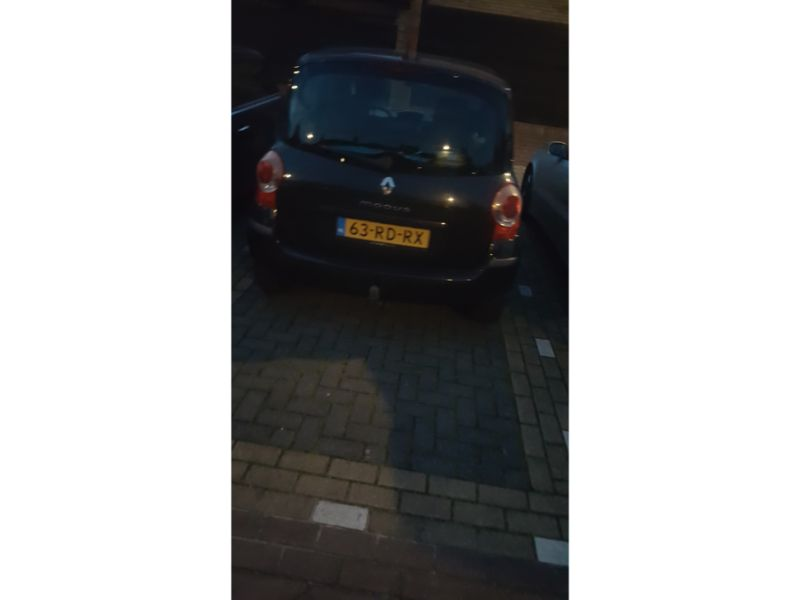kenteken: (336, 217, 430, 255)
